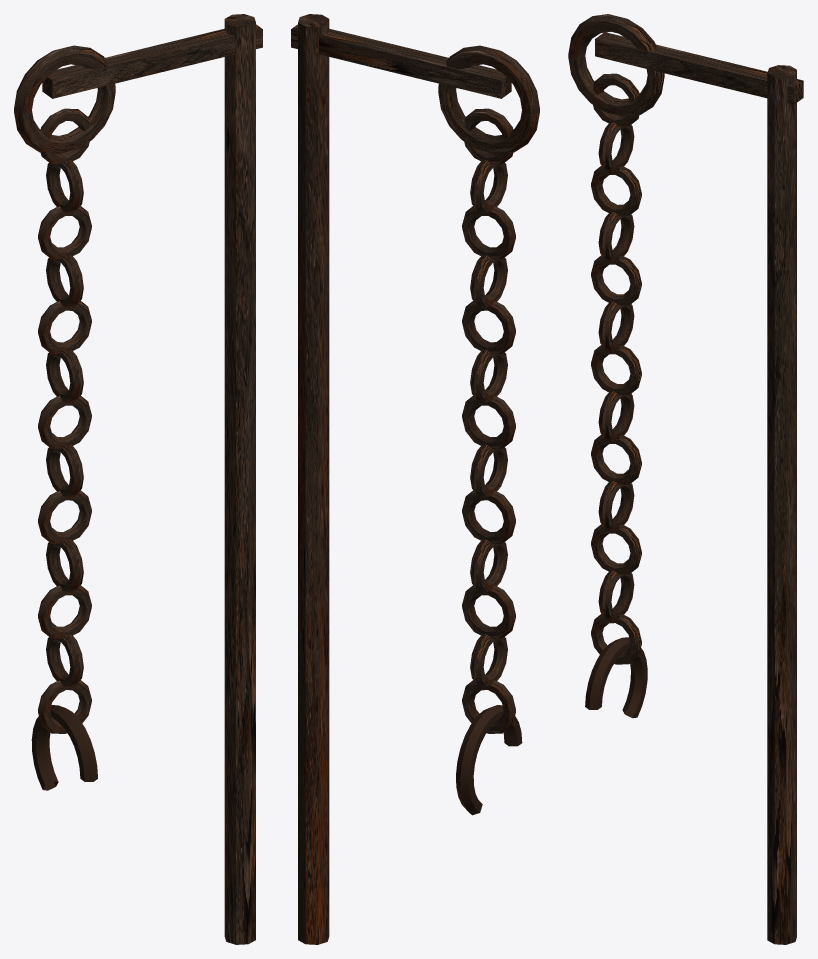
The model's file is hook-chain-v02.glb.
3 renders of one model, left to right at view 1: azimuth 30°, elevation 25°; view 2: azimuth 150°, elevation 25°; view 3: azimuth 330°, elevation 25°, orthographic. The views are drawn at different scales.
Parts seen in each view (by area): view 1: hook-chain; view 2: hook-chain; view 3: hook-chain.
Part boxes in pixels (x1,y1,x2,y2): hook-chain: (14, 14, 262, 944); hook-chain: (291, 14, 539, 944); hook-chain: (568, 14, 803, 944).
Bounding box in the file's own units: 0.695 × 2.54 × 0.2836.
Materials: 1 (1 with a texture image).
